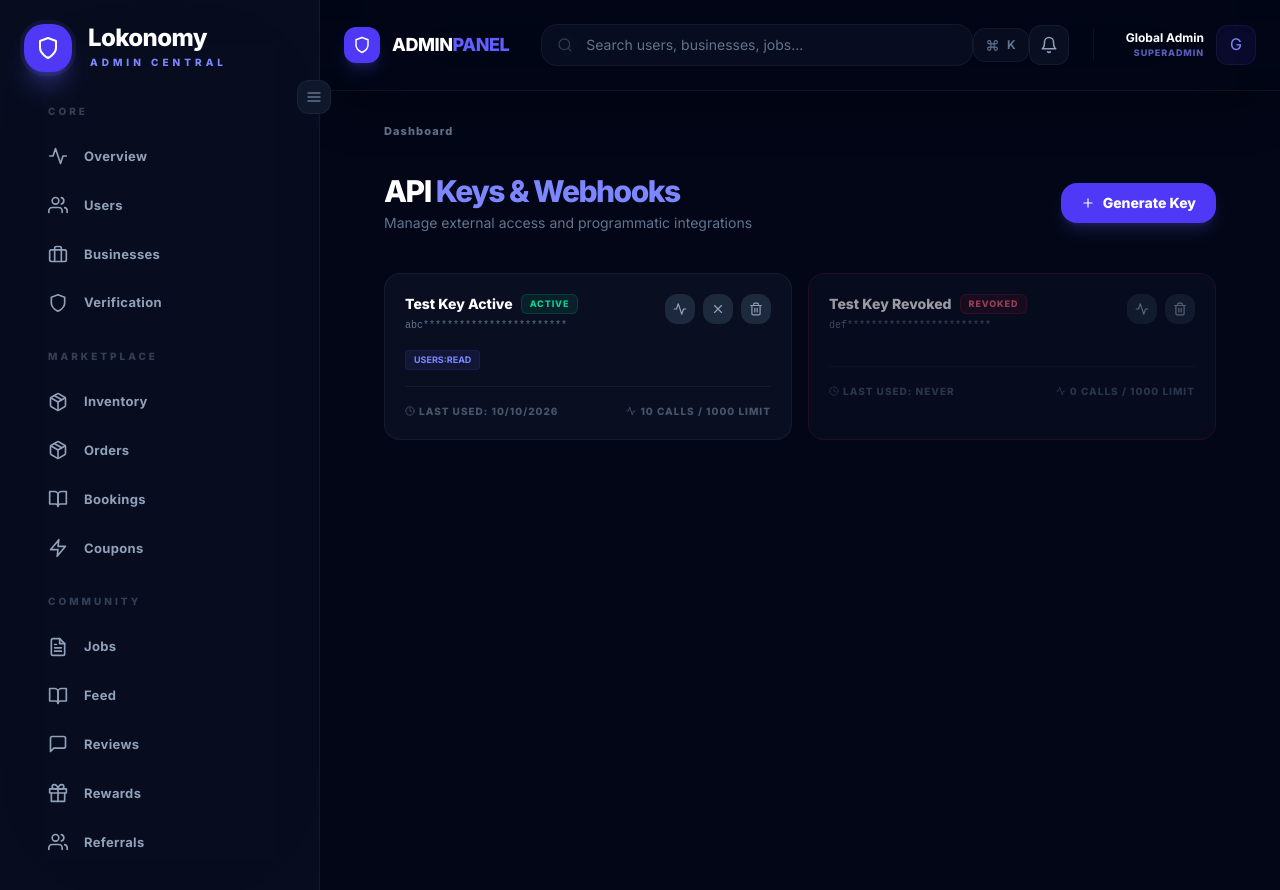
AdminApiKeyManagement Component › views api key logs with empty array
This screenshot has width=1280, height=890.
Check: the heading "Test Key Active" is shown, box [405,294,513,314]
What coordinates should you click on to do the following:
click the button titled "View Logs" in the row of "Test Key Active"
I would click on:
 (680, 309)
Its box is [665,294,695,324].
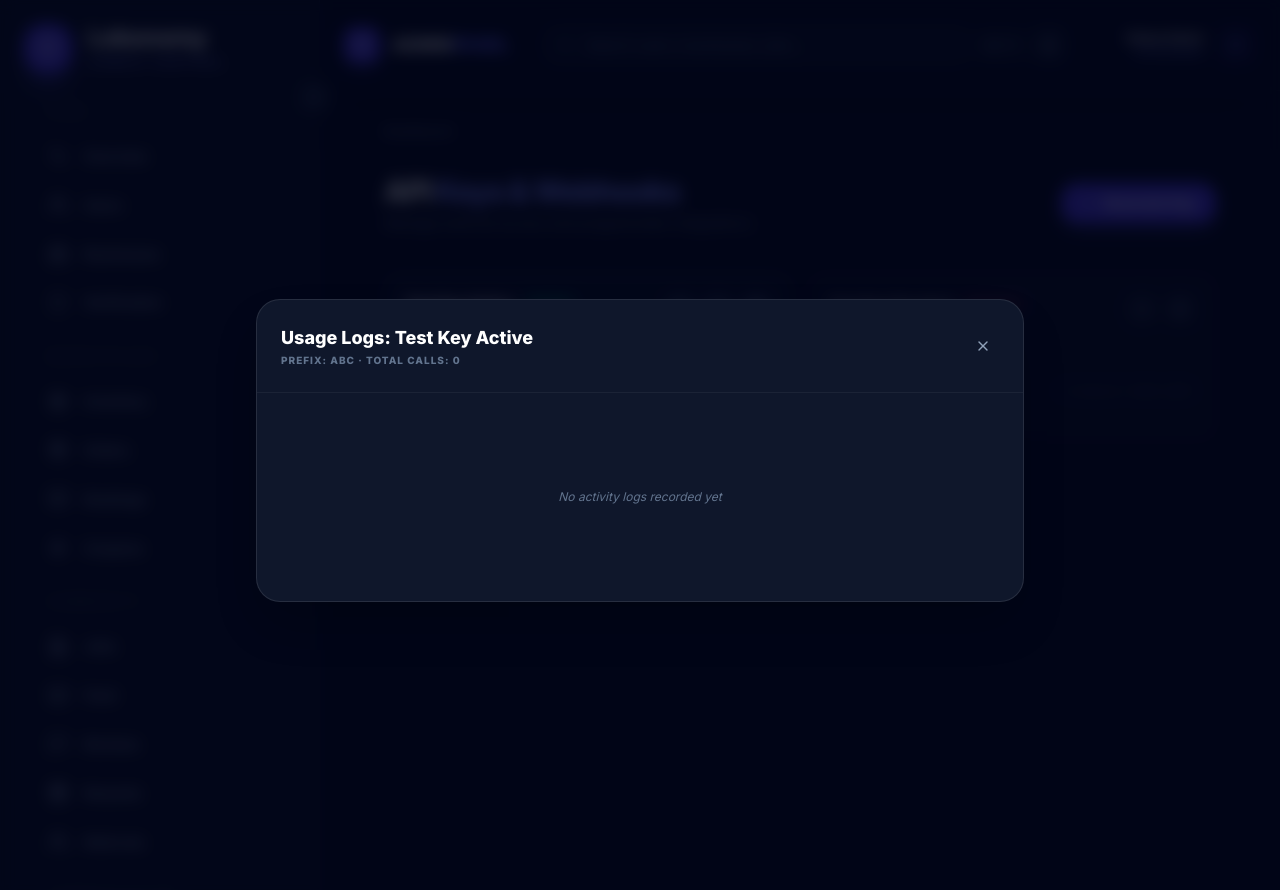
Check: the heading "Usage Logs: Test Key Active" is shown, box [281,324,533,352]
Check: the text "No activity logs recorded yet" is shown, box [558,488,722,504]
